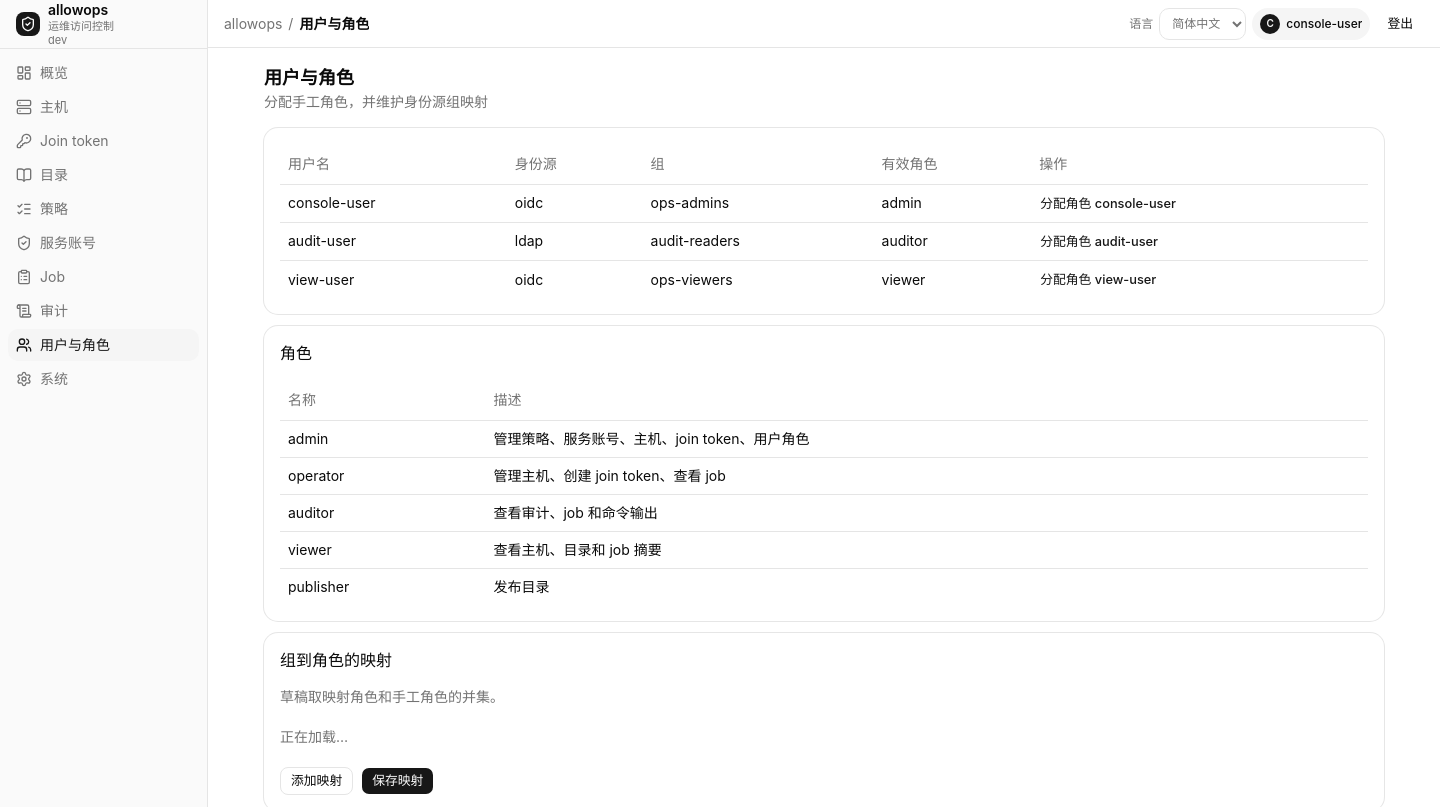
Test: console pages › updates user role assignments
Expected: the heading "用户与角色" is shown, [264, 67, 354, 88]
Click the button "分配角色 audit-user" at {"x": 1099, "y": 242}, box [1039, 232, 1159, 252]
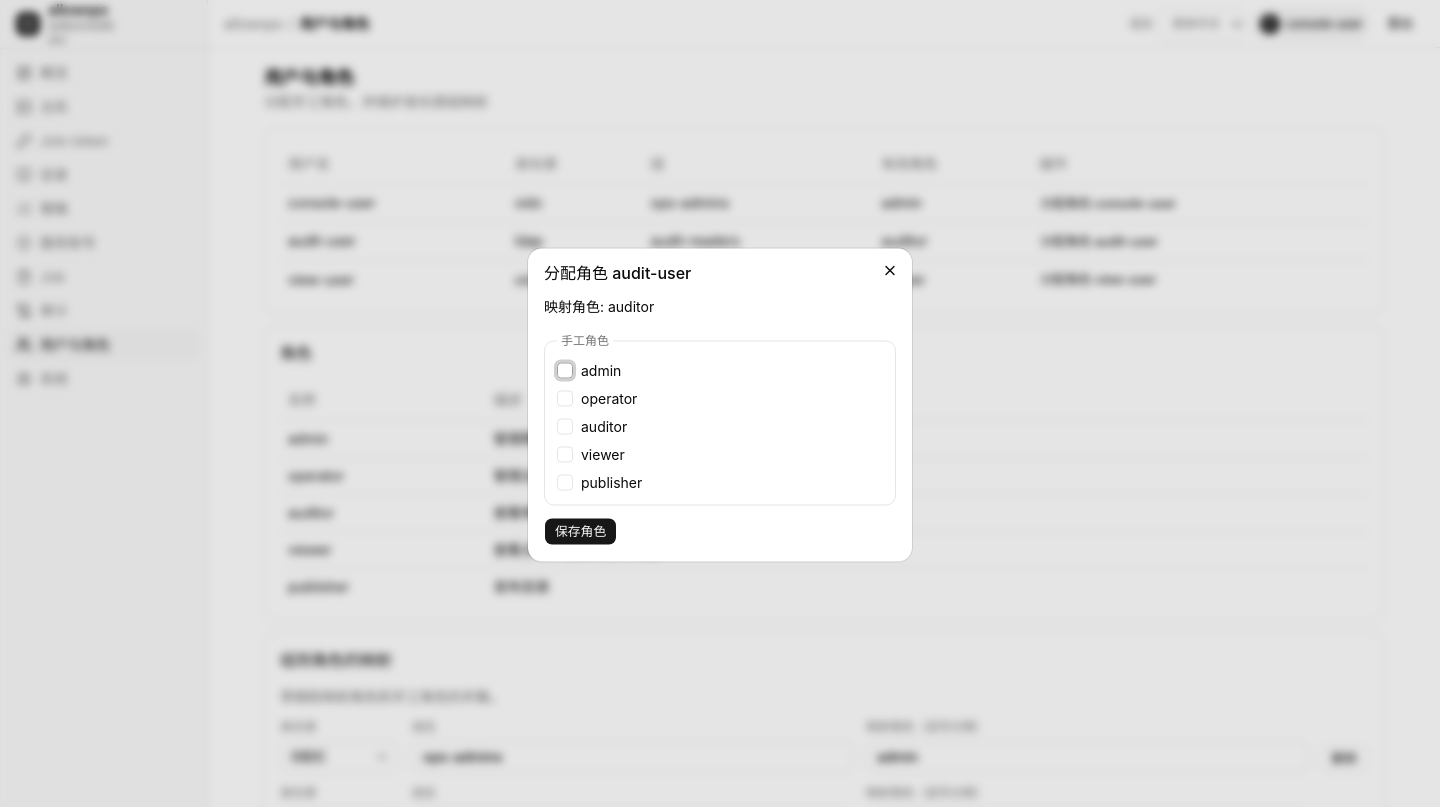
Click the 2nd checkbox named "operator" at {"x": 565, "y": 398}, box [557, 390, 573, 406]
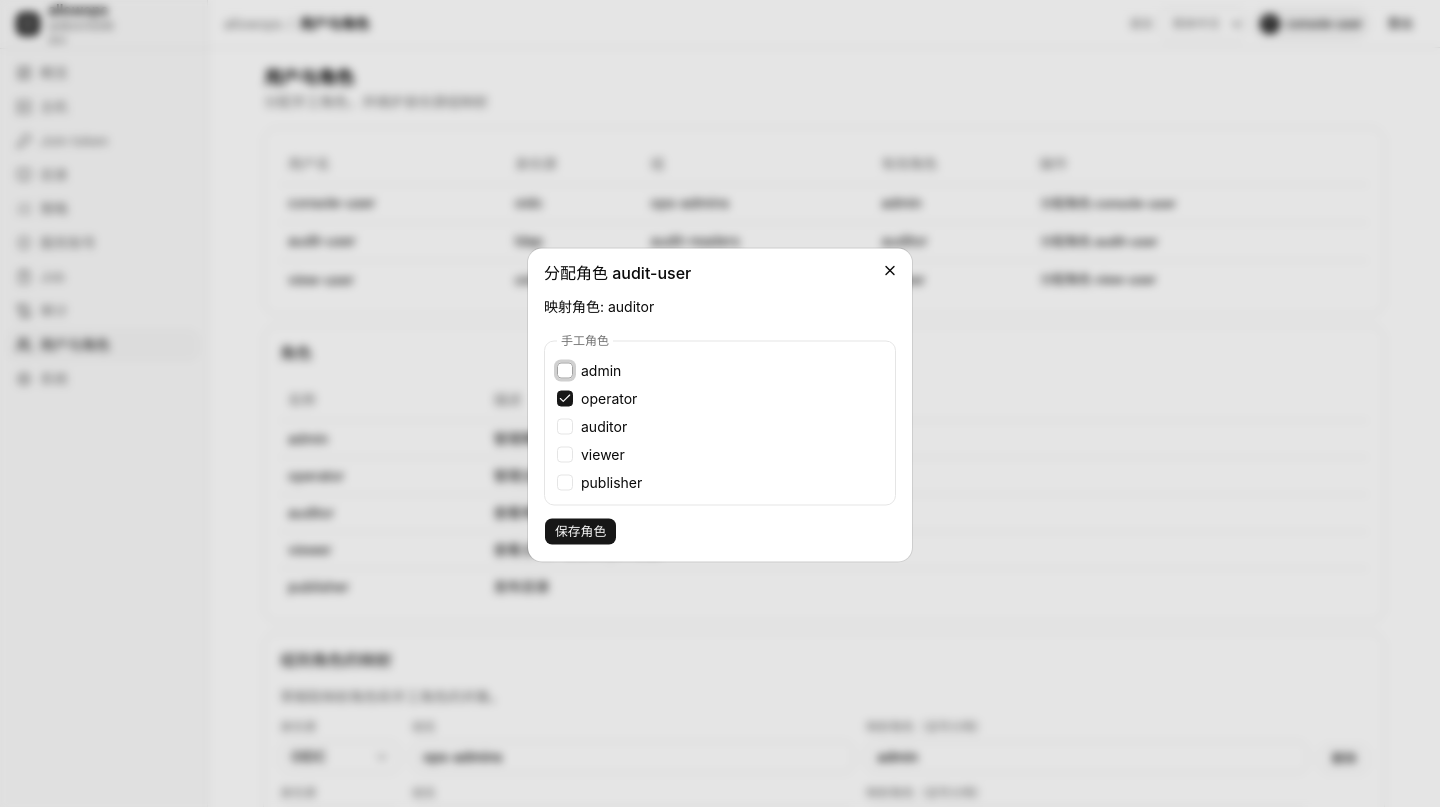
Click the button "保存角色" at {"x": 581, "y": 532}, box [544, 518, 617, 546]
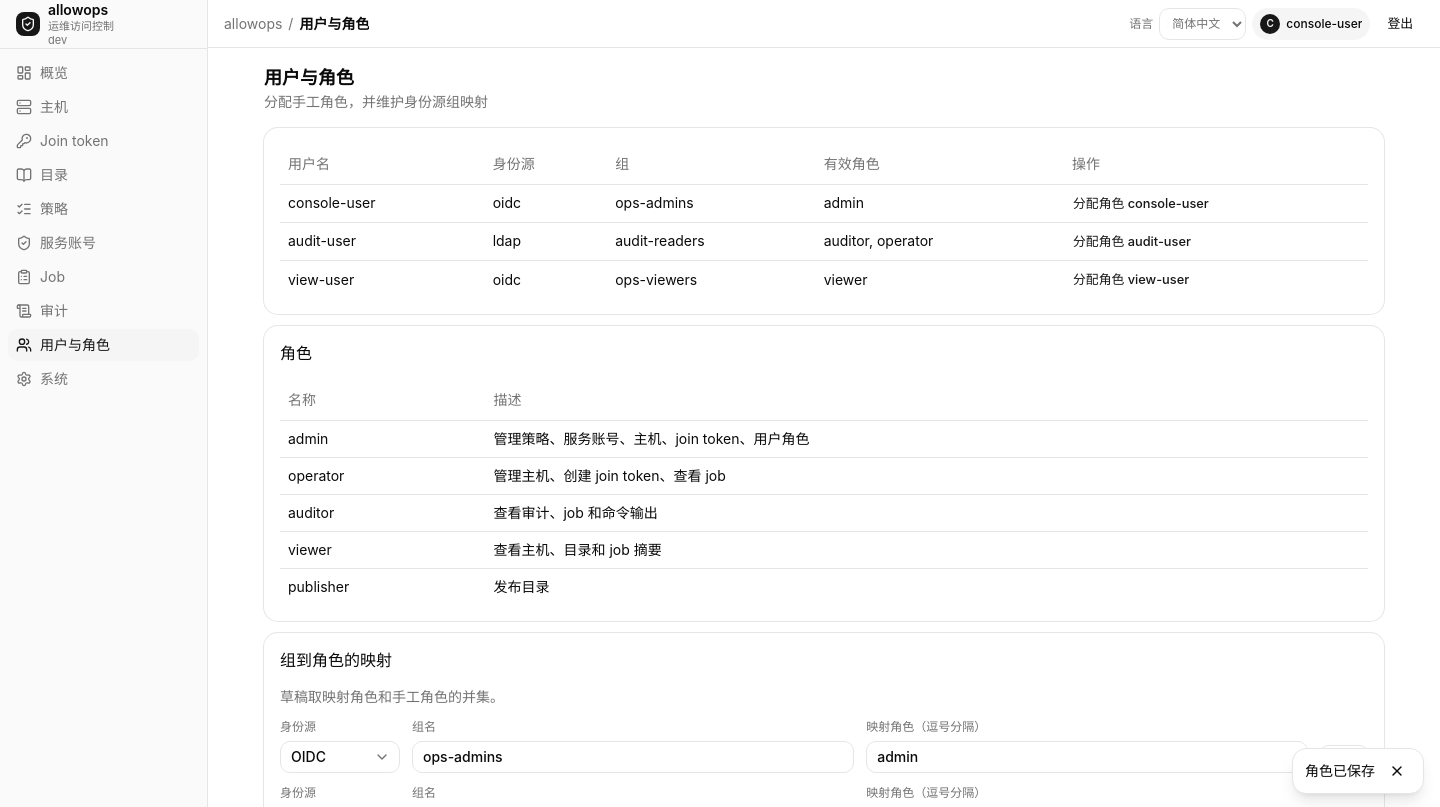
Now the message reads "角色已保存", box [1305, 762, 1375, 779]
